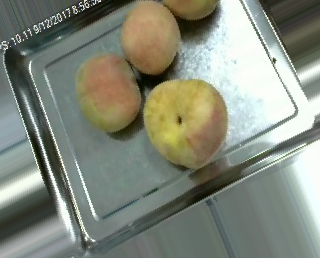Peach: (143, 77, 227, 168), (74, 52, 141, 133), (118, 1, 181, 74)
